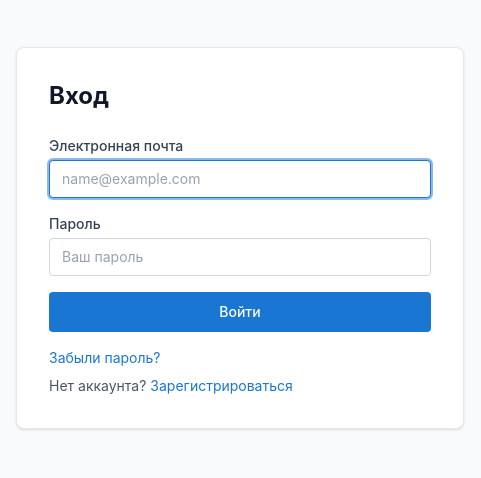
Scenario: LoginPage (US5 — authentication) › surfaces generic "Ошибка входа" for non-ApiError exceptions
Type "u@e.com" into the field labelled "Электронная почта" at (240, 179), box [49,160,431,198]
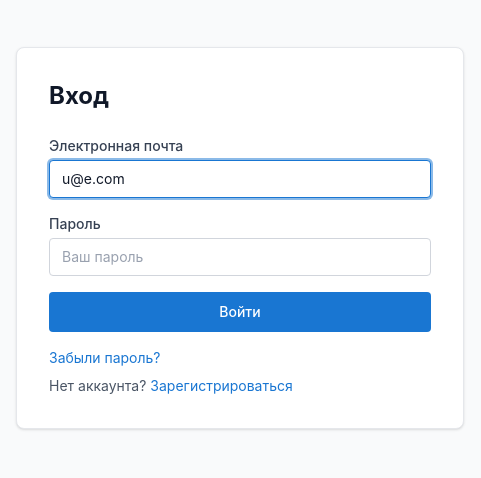
Type "pw" into the password field labelled "Пароль" at (240, 257), box [49,238,431,276]
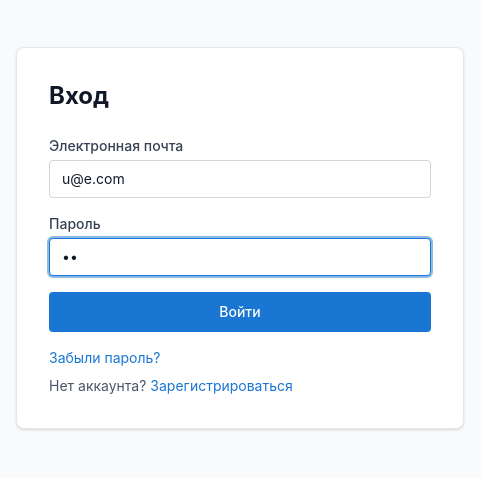
Click the button "Войти" at (240, 312), box [49,292,431,332]
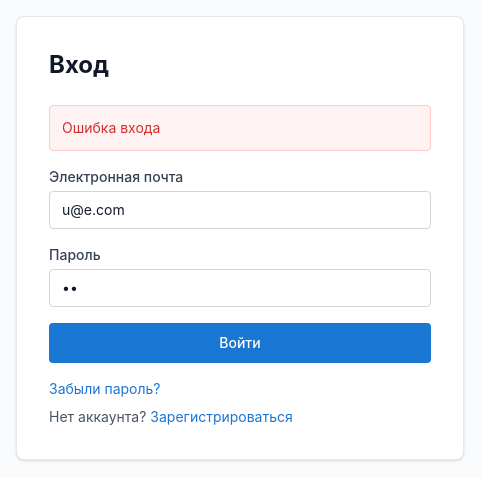
Now the message reads "Ошибка входа", box [62,119,160,136]
